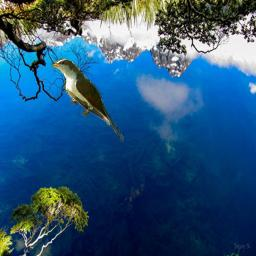Cuckoo: (51, 57, 124, 142)
